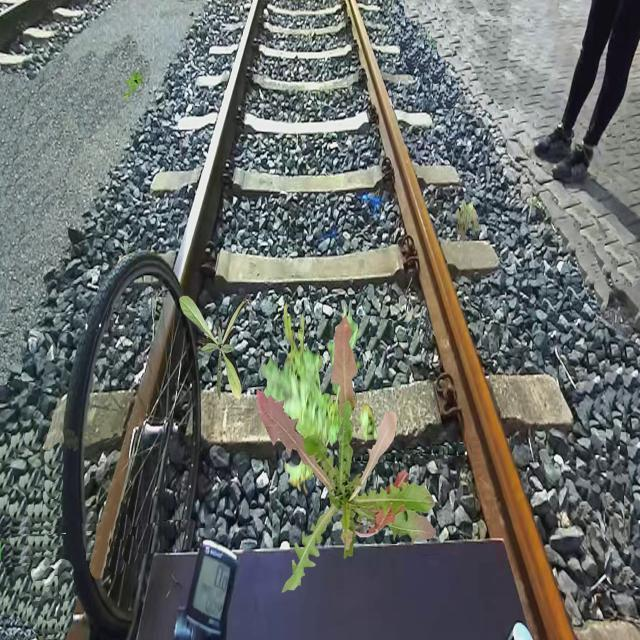Plant: (257, 315, 437, 593), (261, 299, 386, 495), (179, 294, 250, 402), (455, 199, 481, 242), (124, 68, 144, 100)
